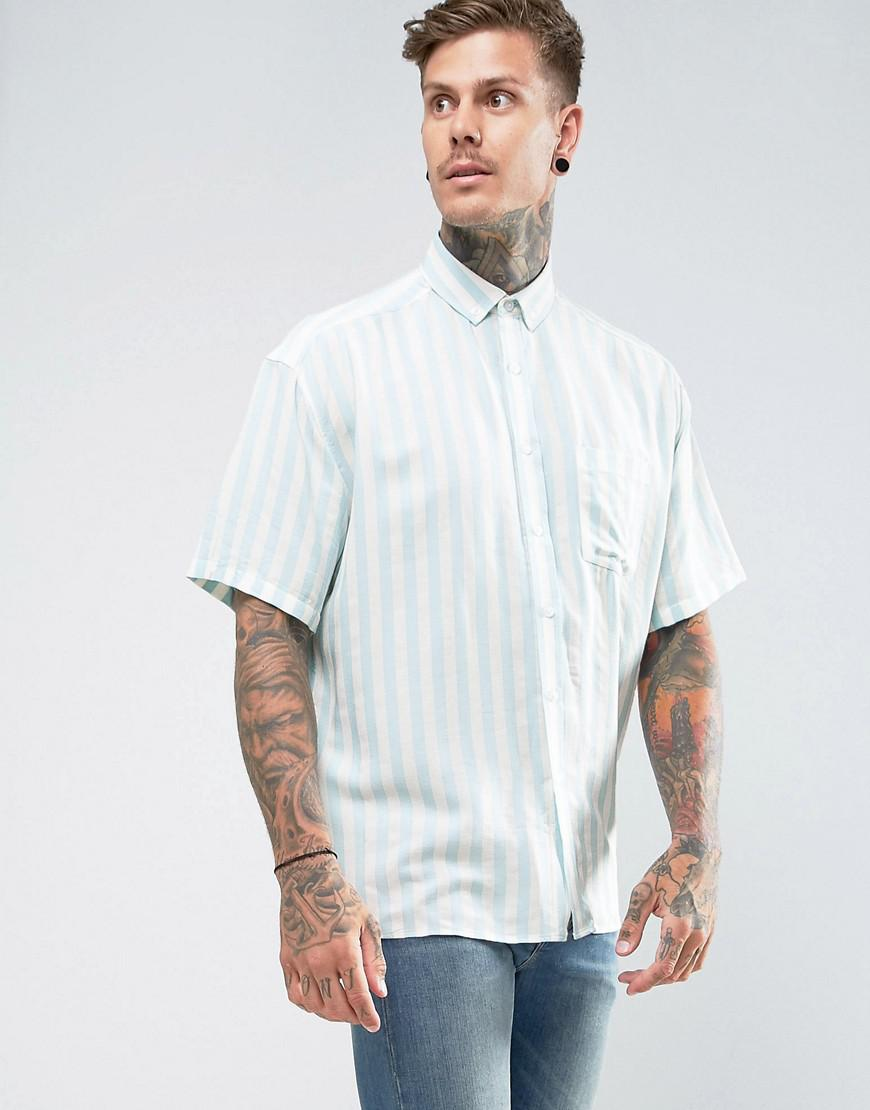teeshirt: (186, 234, 756, 947)
